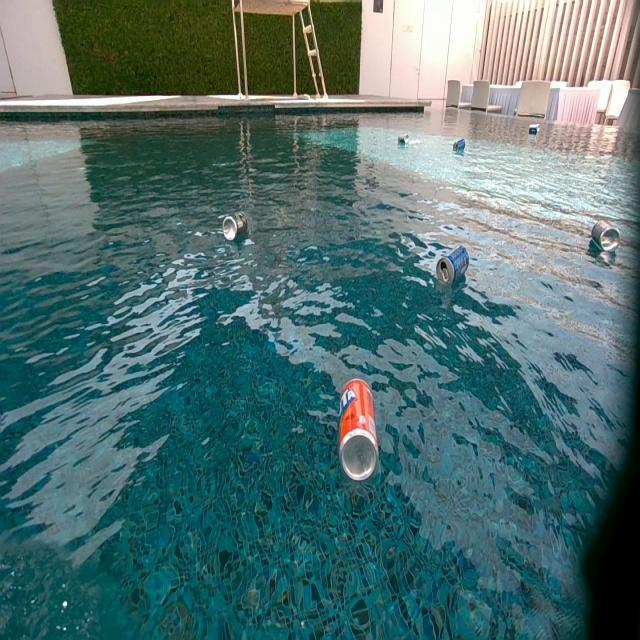Cans: (340, 377, 380, 482), (437, 246, 471, 288), (591, 222, 622, 252), (221, 213, 239, 241), (397, 134, 409, 147), (454, 139, 466, 151), (528, 126, 538, 137)
